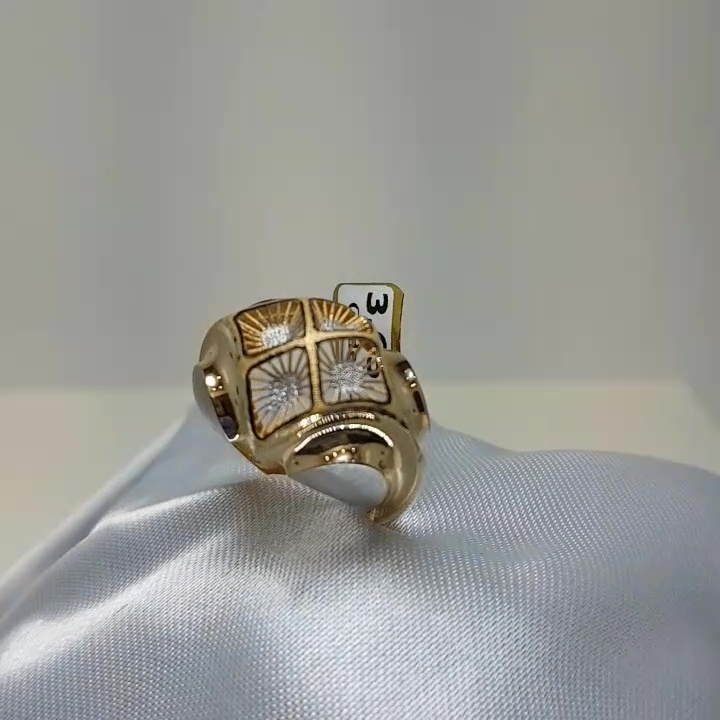Ring 2: (173, 241, 449, 540)
